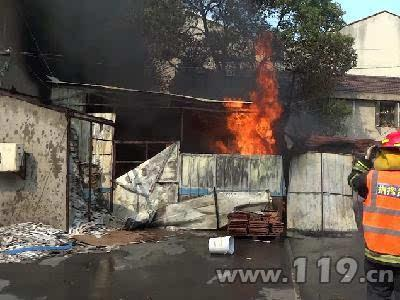fire: (222, 30, 288, 157)
